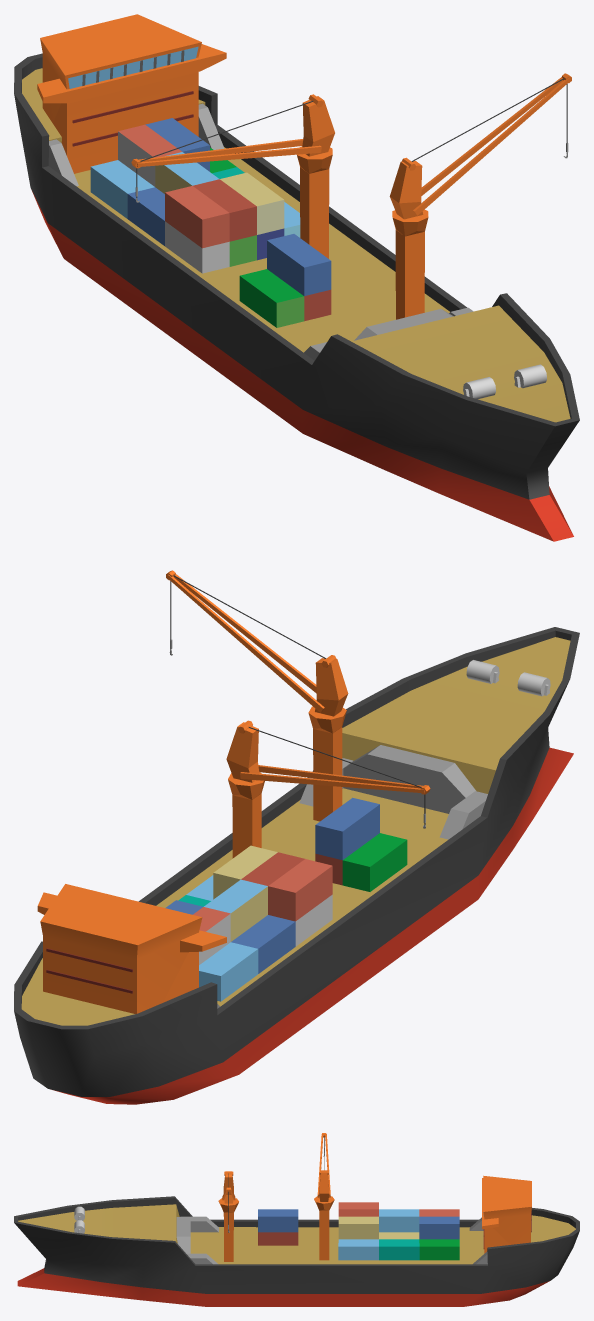
File: Cargo_Ship_1.fbx
3 renders of one model, top to bottom at view 1: azimuth 30°, elevation 25°; view 2: azimuth 150°, elevation 25°; view 3: azimuth 270°, elevation 25°, orthographic. The views are drawn at different scales.
Parts seen in each view (by area): view 1: Cargo_Ship_1; view 2: Cargo_Ship_1; view 3: Cargo_Ship_1.
Boxes of the visible parts, left/top/right/bottom form: Cargo_Ship_1: left=14, top=14, right=579, bottom=541; Cargo_Ship_1: left=14, top=570, right=579, bottom=1104; Cargo_Ship_1: left=14, top=1133, right=579, bottom=1306.
Bounding box in the file's own units: 7.14 × 5.35 × 18.53.
